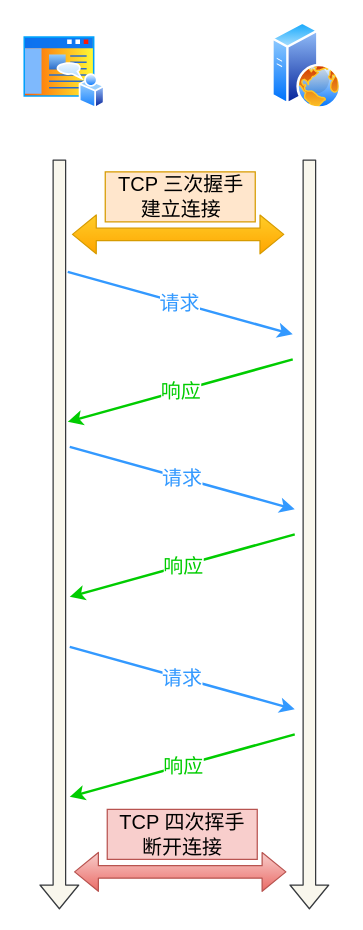
The diagram is 363 pixels wide and 930 high, and some of its shapes have lost their labels. The shapes that lost their labels are listed below. From the top down, each one's box as (x1, y1, x2, y2) in pixels, then its label:
(21, 34, 105, 109): 浏览器
(271, 21, 341, 109): 服务器
